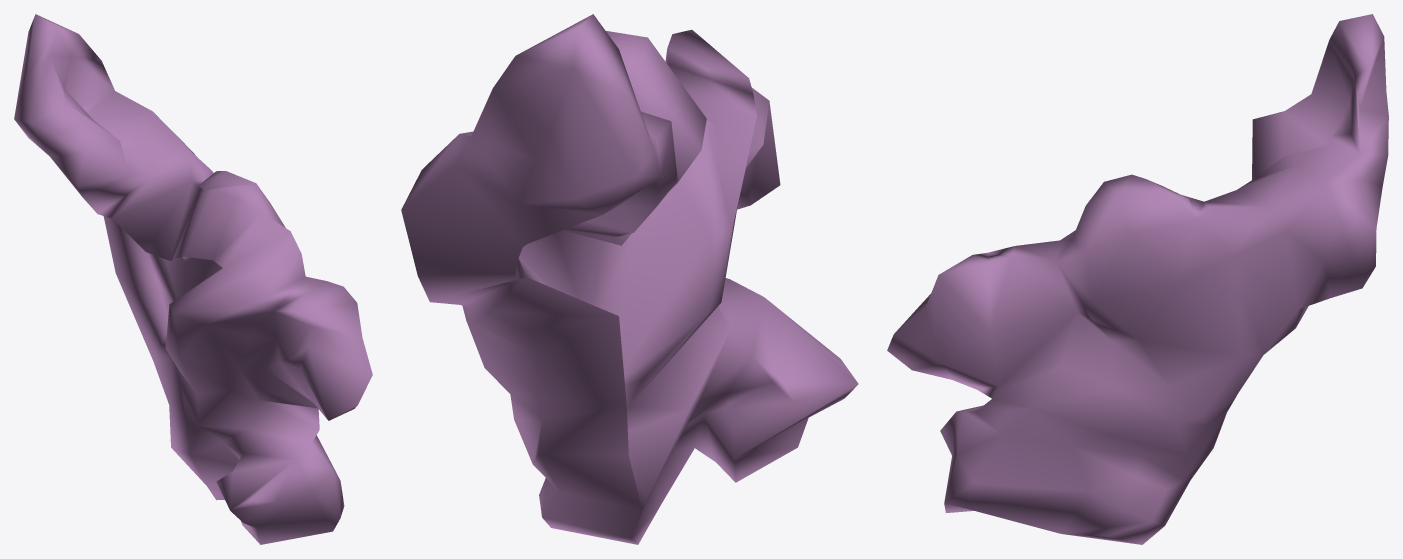
3 views of the same model, side by side, from view 1: azimuth 30°, elevation 25°; view 2: azimuth 150°, elevation 25°; view 3: azimuth 270°, elevation 25° (orthographic). The views are drawn at different scales.
Parts seen in each view (by area): view 1: 右侧扣带回与扣带沟后背侧部; view 2: 右侧扣带回与扣带沟后背侧部; view 3: 右侧扣带回与扣带沟后背侧部.
Boxes of the visible parts, x1,y1,x2,y2 form: 右侧扣带回与扣带沟后背侧部: (14, 14, 372, 544); 右侧扣带回与扣带沟后背侧部: (401, 14, 858, 544); 右侧扣带回与扣带沟后背侧部: (887, 14, 1388, 544).
Size of the model in its own units: 0.0193 by 0.0501 by 0.0487.
